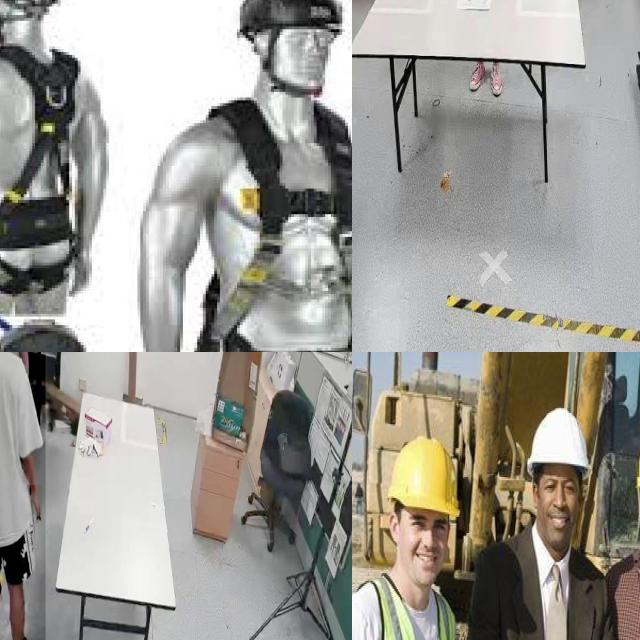Harness: (183, 100, 352, 352), (0, 47, 84, 299)
No_Ear-Protection: (388, 505, 402, 551), (530, 476, 544, 520)
No_Glasses: (539, 466, 577, 506), (408, 509, 453, 540)
hand_noglove: (29, 485, 43, 524)
person: (0, 352, 46, 640)
shoes: (468, 58, 486, 91), (488, 61, 504, 96)
